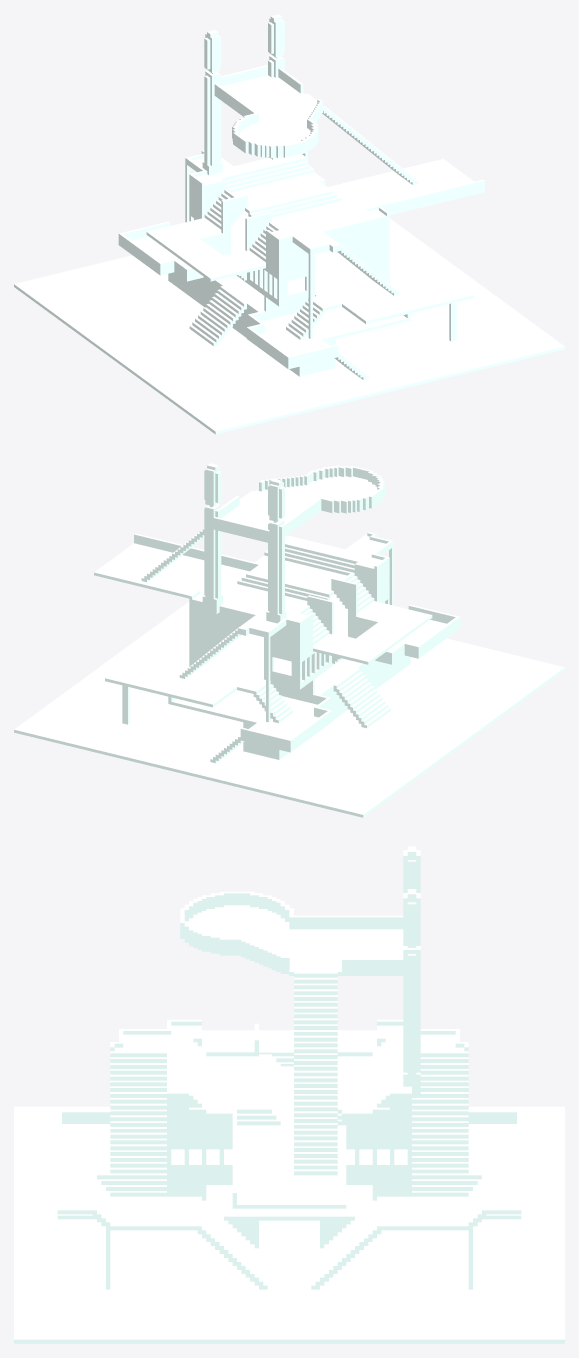
The model's file is dissertation.gltf.
3 renders of one model, top to bottom at view 1: azimuth 30°, elevation 25°; view 2: azimuth 150°, elevation 25°; view 3: azimuth 270°, elevation 25°, orthographic. The views are drawn at different scales.
Parts seen in each view (by area): view 1: temple; view 2: temple; view 3: temple.
Boxes of the visible parts, box(x1,y1,x2,y2) form: temple: box(14, 14, 564, 434); temple: box(14, 463, 564, 817); temple: box(14, 846, 564, 1343).
Size of the model in its own units: 1.26 by 0.9 by 1.26.
